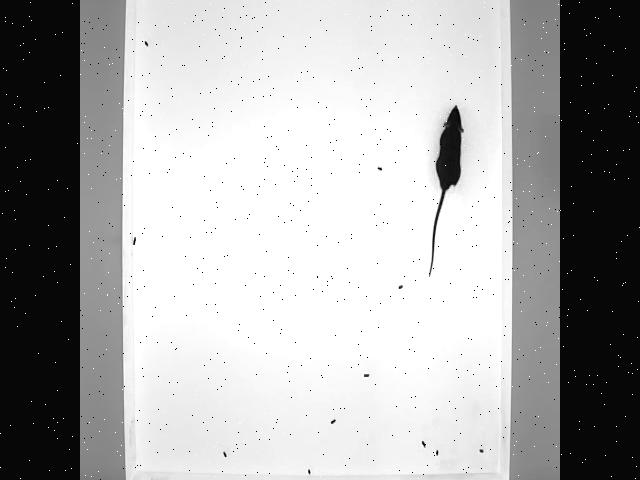Tikus: (421, 103, 467, 281)
